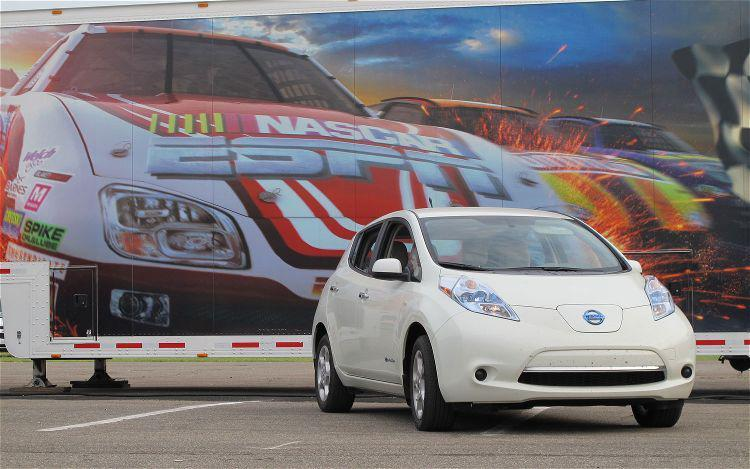Car: (283, 194, 711, 448)
